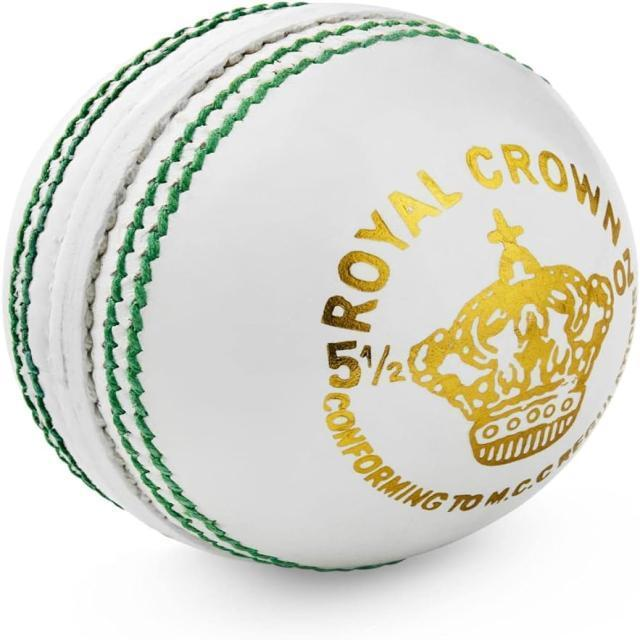cricket ball: (2, 0, 639, 573)
